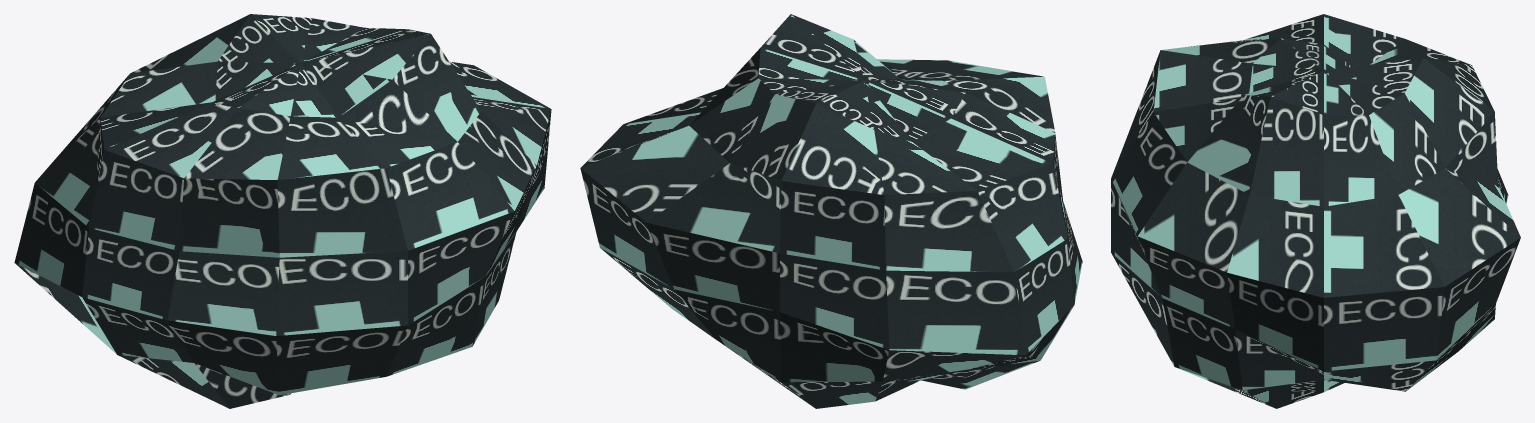
Rendered from rock_medium_LOD1.obj.
3 renders of one model, left to right at view 1: azimuth 30°, elevation 25°; view 2: azimuth 150°, elevation 25°; view 3: azimuth 270°, elevation 25°, orthographic. The views are drawn at different scales.
Visible parts, largest first — view 1: L02_rock_medium_LOD1; view 2: L02_rock_medium_LOD1; view 3: L02_rock_medium_LOD1.
Part boxes in pixels (x1,y1,x2,y2): L02_rock_medium_LOD1: [14, 14, 551, 408]; L02_rock_medium_LOD1: [580, 14, 1082, 408]; L02_rock_medium_LOD1: [1111, 14, 1520, 408].
Size of the model in its own units: 3.33 by 2.19 by 2.49.
Materials: 1 (1 with a texture image).
